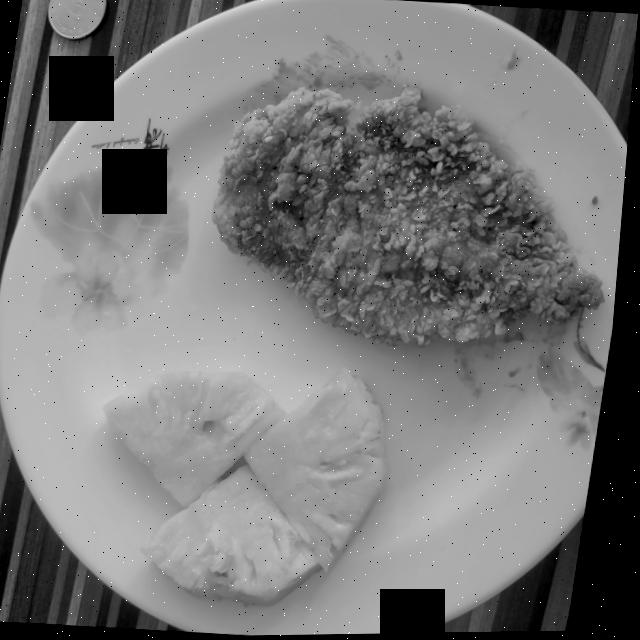coin: (48, 0, 106, 38)
fried chicken cutlet: (216, 86, 609, 346)
pineapple: (111, 369, 396, 604)
